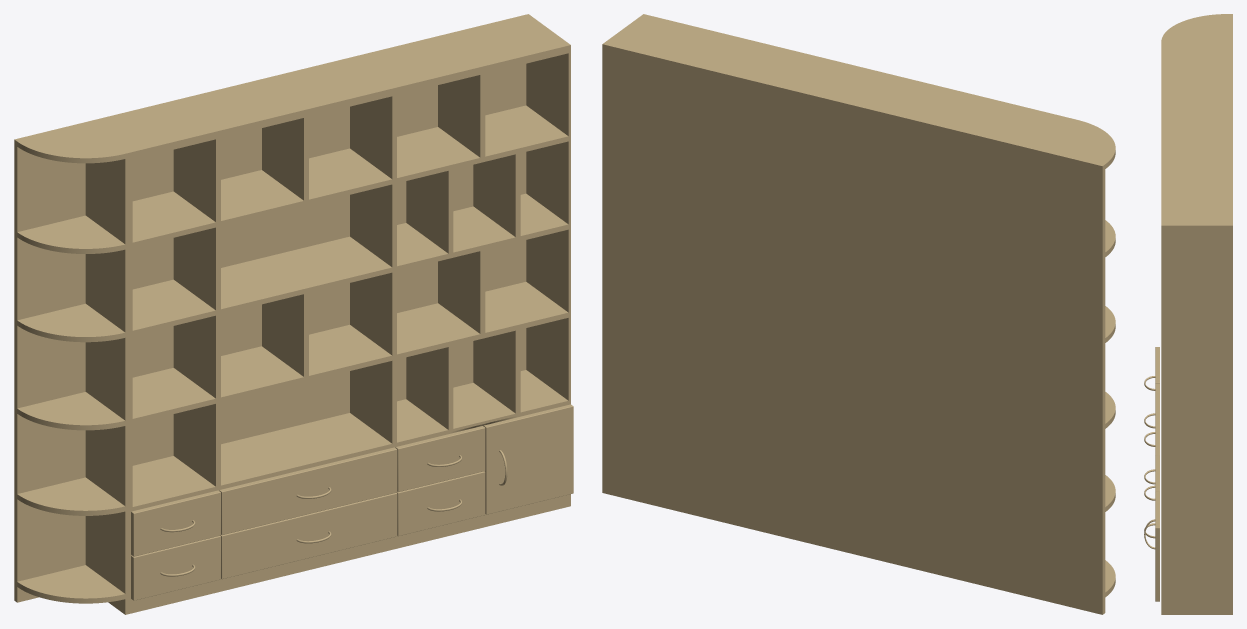
The model's file is bookshelf.glb.
3 views of the same model, side by side, from view 1: azimuth 30°, elevation 25°; view 2: azimuth 150°, elevation 25°; view 3: azimuth 270°, elevation 25° (orthographic). The views are drawn at different scales.
Visible parts, largest first — view 1: Box004, 对象002, Box003, Box002, Cylinder006, Cylinder004, Cylinder001, Cylinder003, Cylinder005, Cylinder002; view 2: Box004, Box003, Cylinder001; view 3: Box004, Cylinder001, 对象002, Box002, Box003.
Part boxes in pixels (bbox=[...]): Box004: bbox=[88, 14, 570, 613]; 对象002: bbox=[131, 404, 573, 600]; Box003: bbox=[14, 121, 90, 602]; Box002: bbox=[85, 122, 130, 614]; Cylinder006: bbox=[17, 565, 125, 603]; Cylinder004: bbox=[17, 392, 125, 430]; Cylinder001: bbox=[17, 125, 125, 163]; Cylinder003: bbox=[17, 303, 125, 342]; Cylinder005: bbox=[17, 477, 125, 515]; Cylinder002: bbox=[17, 215, 125, 253]; Box004: bbox=[602, 14, 1071, 597]; Box003: bbox=[1031, 147, 1105, 614]; Cylinder001: bbox=[1039, 120, 1115, 168]; Box004: bbox=[1161, 44, 1232, 614]; Cylinder001: bbox=[1161, 14, 1227, 42]; 对象002: bbox=[1155, 347, 1159, 601]; Box002: bbox=[1161, 42, 1231, 44]; Box003: bbox=[1228, 14, 1232, 44].
Size of the model in its own units: 2.1 by 1.8 by 0.3718.
